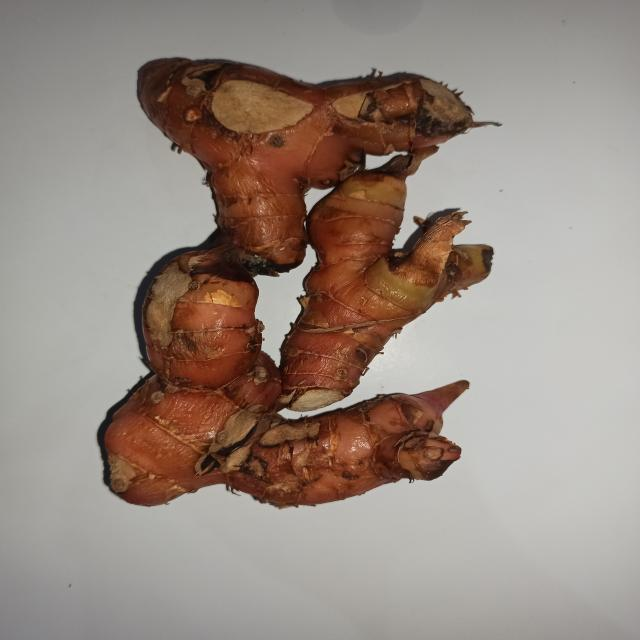ginger: (109, 60, 487, 492)
